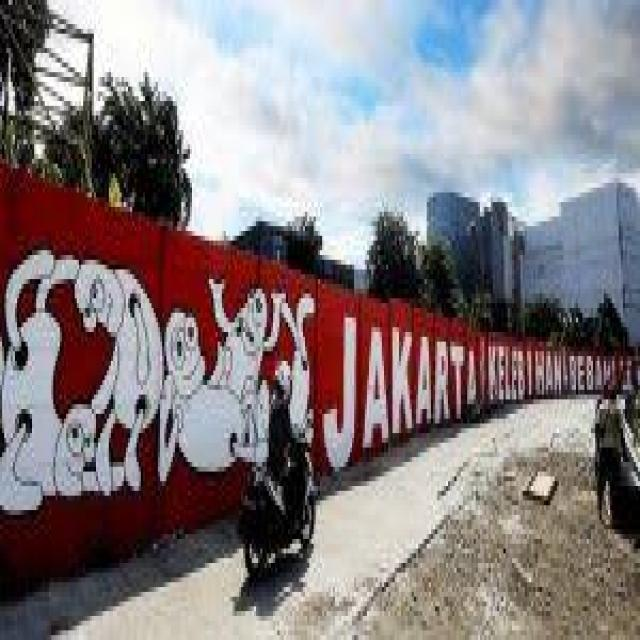-: (2, 248, 316, 513), (322, 316, 477, 474), (526, 349, 610, 394), (491, 344, 524, 398)
